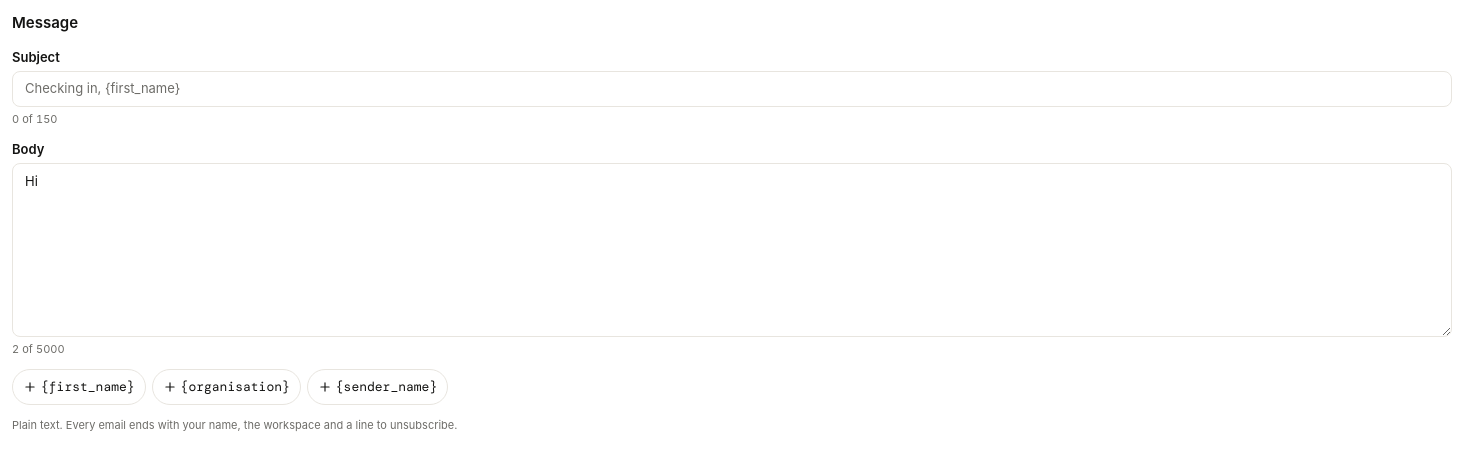
Test: the message fields (spec §2.2) › adds a merge field at the end when the body was never touched
Click the button with aria-label "Insert {organisation}". click: (226, 386)
box: [152, 368, 301, 404]
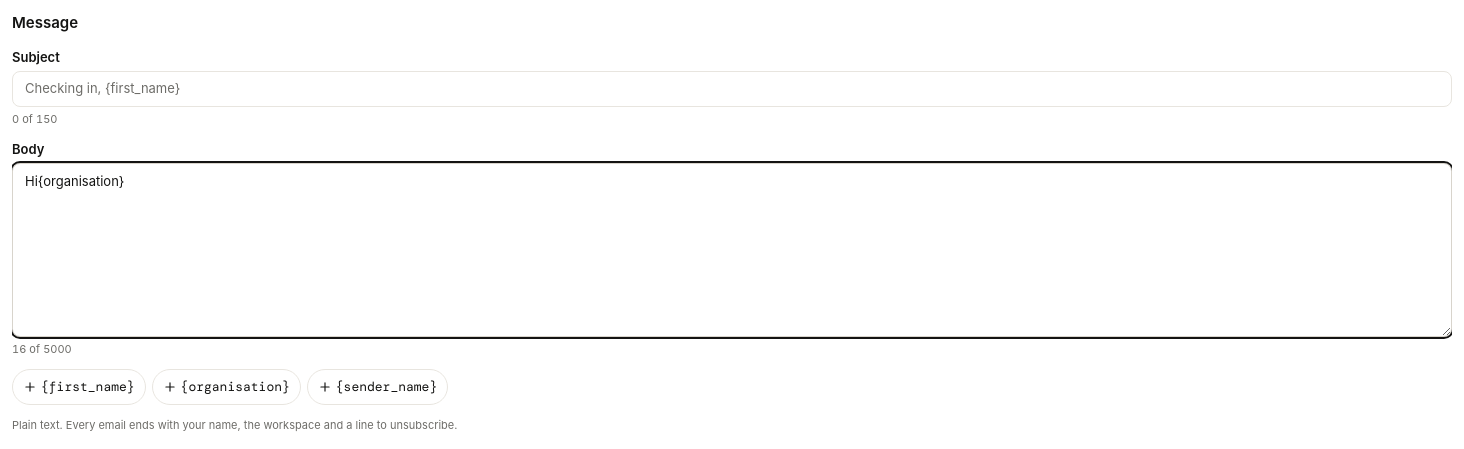
expect the text box labelled "Body" holds "Hi{organisation}": met, box [12, 162, 1452, 336]
